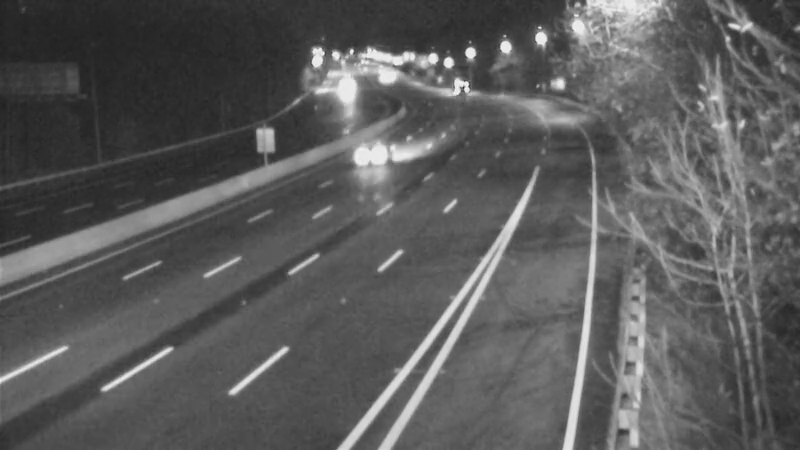vehicle: (358, 54, 408, 104), (432, 61, 482, 111), (353, 124, 403, 174), (319, 61, 369, 111)
